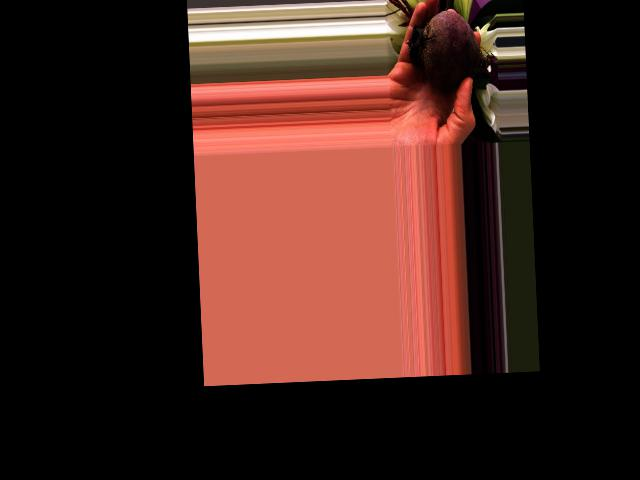beet: (404, 7, 499, 91)
